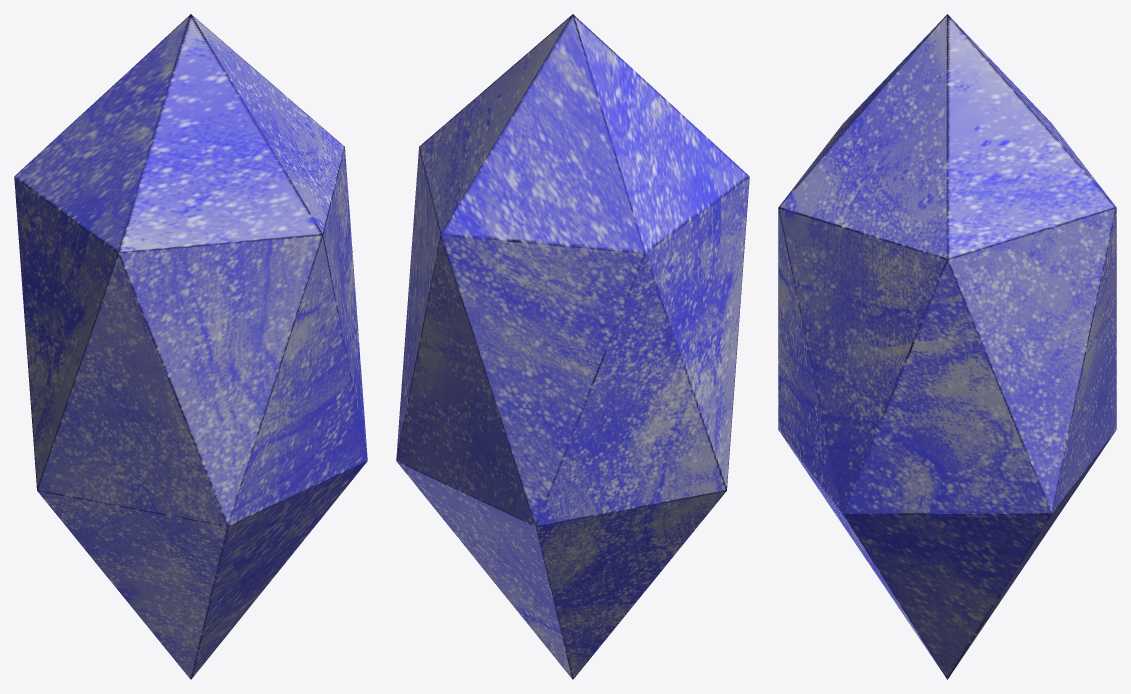
3 renders of one model, left to right at view 1: azimuth 30°, elevation 25°; view 2: azimuth 150°, elevation 25°; view 3: azimuth 270°, elevation 25°, orthographic.
Visible parts, largest first — view 1: Icosphere; view 2: Icosphere; view 3: Icosphere.
Boxes of the visible parts, x1,y1,x2,y2 form: Icosphere: (14,14,367,679); Icosphere: (396,14,749,679); Icosphere: (778,14,1116,679).
Size of the model in its own units: 6.29 by 13 by 5.98.
Materials: 1 (1 with a texture image).
